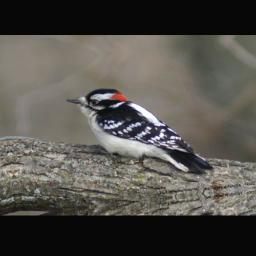Woodpecker: (65, 77, 218, 188)
